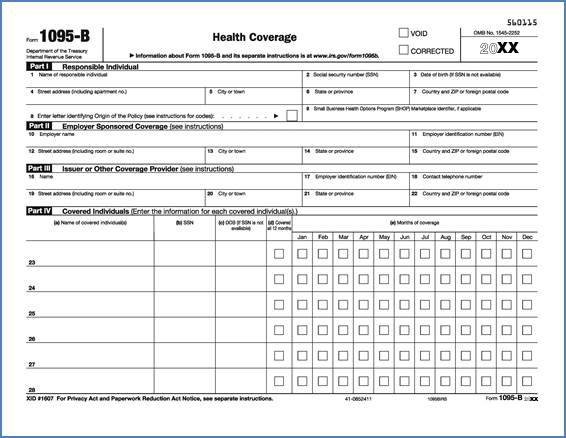checkbox: (270, 245, 287, 261), (294, 245, 311, 261), (313, 244, 330, 260), (334, 245, 351, 261), (355, 245, 372, 261), (375, 245, 392, 261), (395, 245, 412, 261), (416, 245, 433, 261), (437, 245, 454, 261), (457, 245, 474, 261), (477, 245, 494, 261), (498, 245, 515, 261), (518, 245, 535, 261), (519, 270, 536, 286), (498, 270, 514, 286), (478, 270, 494, 286), (458, 270, 474, 286), (437, 270, 453, 286), (417, 270, 433, 286), (397, 270, 413, 286), (376, 270, 392, 286), (356, 270, 372, 286), (335, 269, 351, 285), (315, 270, 331, 286), (294, 270, 310, 286), (271, 270, 287, 286), (270, 296, 286, 312), (294, 295, 310, 311), (315, 295, 331, 311), (335, 295, 351, 311), (355, 296, 371, 312), (375, 296, 391, 312), (397, 296, 413, 312), (417, 296, 433, 312), (437, 296, 453, 312), (458, 296, 474, 312), (478, 296, 494, 312), (498, 296, 514, 312), (519, 296, 535, 312), (519, 321, 535, 337), (499, 321, 515, 337), (479, 320, 495, 336), (458, 321, 474, 337), (437, 321, 453, 337), (416, 321, 432, 337), (396, 320, 412, 336), (376, 321, 392, 337), (356, 321, 372, 337), (335, 320, 351, 336), (315, 320, 331, 336), (294, 320, 310, 336), (271, 320, 287, 336), (270, 346, 286, 362), (294, 346, 310, 362), (315, 346, 331, 362), (335, 347, 351, 363), (356, 347, 372, 363), (376, 347, 392, 363), (396, 347, 412, 363), (417, 347, 433, 363), (437, 346, 453, 362), (457, 346, 473, 362), (478, 346, 494, 362), (498, 347, 514, 363), (518, 347, 534, 363), (519, 372, 535, 388), (498, 371, 514, 387), (478, 372, 494, 388), (458, 372, 474, 388), (437, 371, 453, 387), (417, 371, 433, 387), (396, 371, 412, 387), (375, 371, 391, 387), (356, 371, 372, 387), (336, 371, 352, 387), (315, 371, 331, 387), (294, 371, 310, 387), (271, 371, 287, 387), (285, 108, 299, 122), (396, 26, 411, 39), (397, 43, 410, 56)
textbox: (24, 127, 411, 150), (22, 169, 304, 191), (24, 69, 304, 89), (300, 103, 539, 124), (22, 143, 208, 165), (22, 186, 208, 208), (22, 238, 155, 267), (23, 264, 156, 293), (23, 289, 156, 318), (24, 316, 157, 345), (24, 340, 157, 369), (24, 367, 157, 396), (23, 86, 209, 106), (407, 169, 541, 191), (409, 186, 543, 208), (407, 144, 541, 165), (407, 127, 541, 148), (408, 68, 539, 89), (409, 85, 540, 106), (299, 144, 412, 165), (298, 169, 411, 190), (299, 185, 412, 206), (300, 68, 412, 89), (300, 84, 412, 105), (151, 237, 218, 269), (151, 263, 218, 295), (151, 288, 218, 320), (151, 313, 218, 345), (151, 339, 218, 371), (153, 363, 220, 395), (203, 186, 305, 207), (203, 86, 305, 106), (203, 144, 304, 164), (213, 239, 270, 267), (212, 265, 269, 293), (214, 291, 271, 319), (212, 315, 269, 343), (212, 341, 269, 369), (211, 366, 268, 394)
